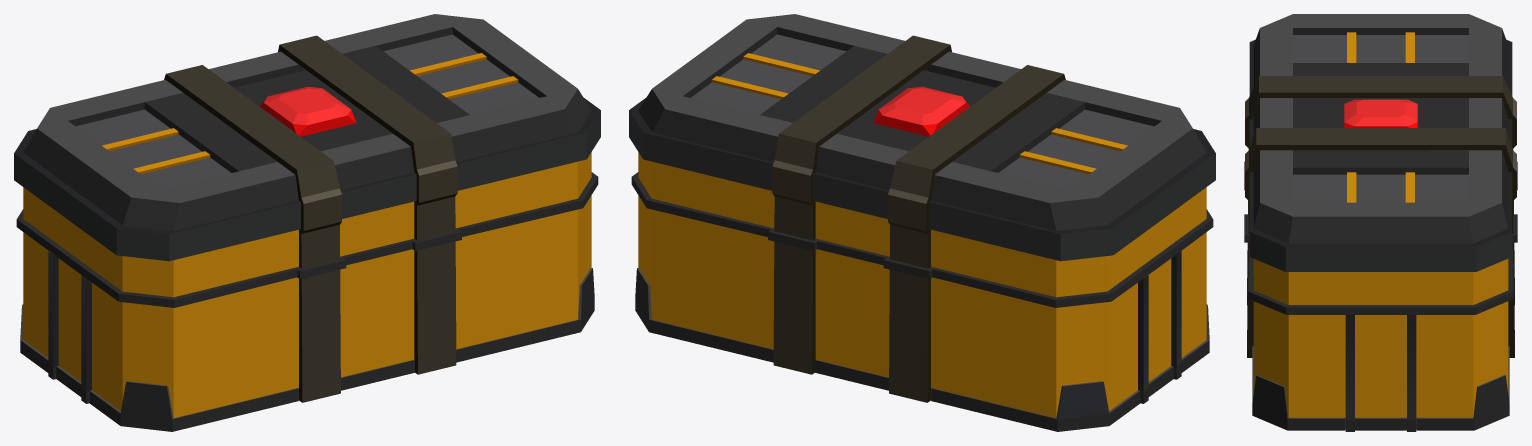
The model's file is CrateYellowBig_01.glb.
The picture shows the model from 3 angles, left to right: view 1: azimuth 30°, elevation 25°; view 2: azimuth 150°, elevation 25°; view 3: azimuth 270°, elevation 25°; orthographic projection. The views are drawn at different scales.
Parts seen in each view (by area): view 1: CrateYellowBig_01; view 2: CrateYellowBig_01; view 3: CrateYellowBig_01.
Boxes of the visible parts, bbox=[...] form: CrateYellowBig_01: bbox=[14, 14, 600, 431]; CrateYellowBig_01: bbox=[629, 14, 1215, 431]; CrateYellowBig_01: bbox=[1244, 14, 1517, 431].
Size of what is drawn, in the model's own units: 1.8 by 0.8172 by 0.9446.
Materials: 1 (1 with a texture image).
